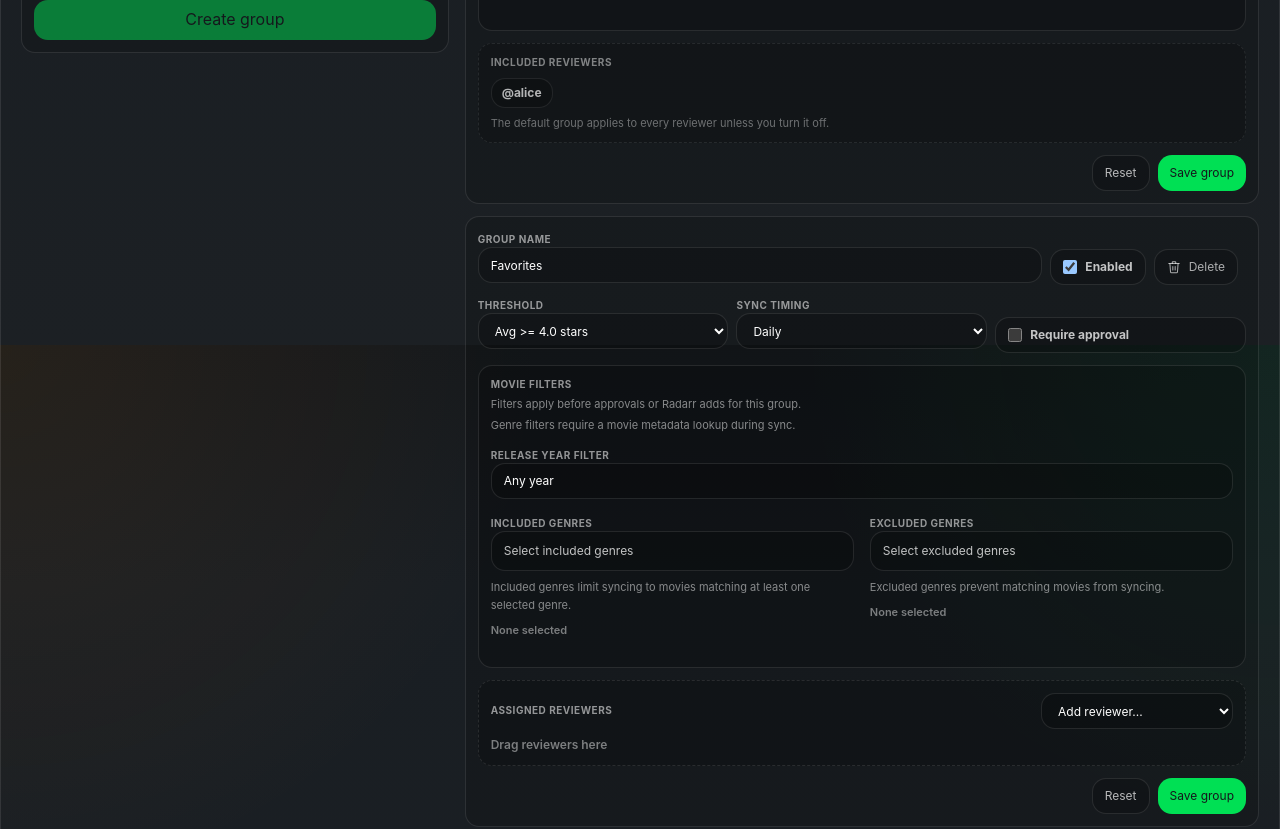
Test: SyncConfigurationPanel › shows validation errors for invalid year filters and does not save
This screenshot has width=1280, height=829.
(page scrolled)
Select "Year is between" in the dropdown labelled "Release year filter": (862, 481) [491,463,1233,499]
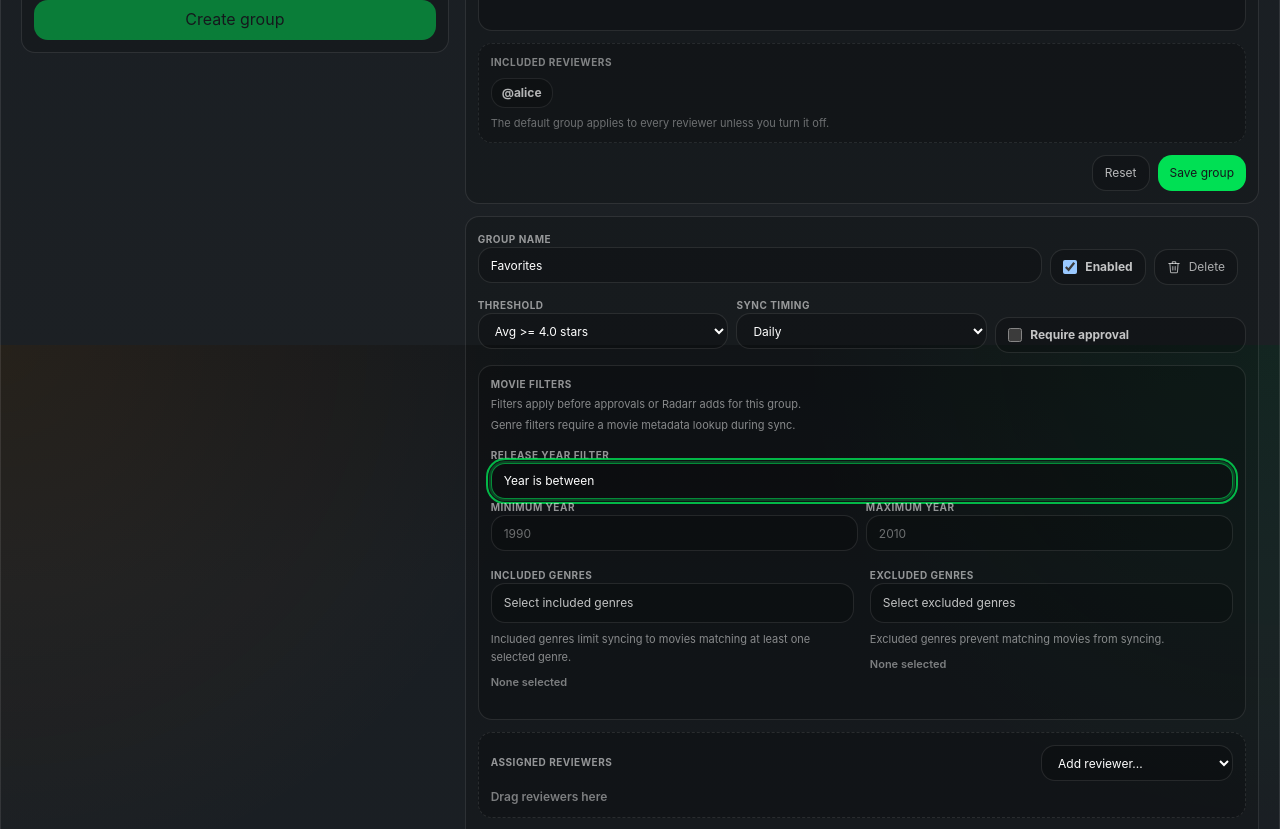
In the field labelled "Minimum year": (674, 533) [491,515,858,551], type "2026"
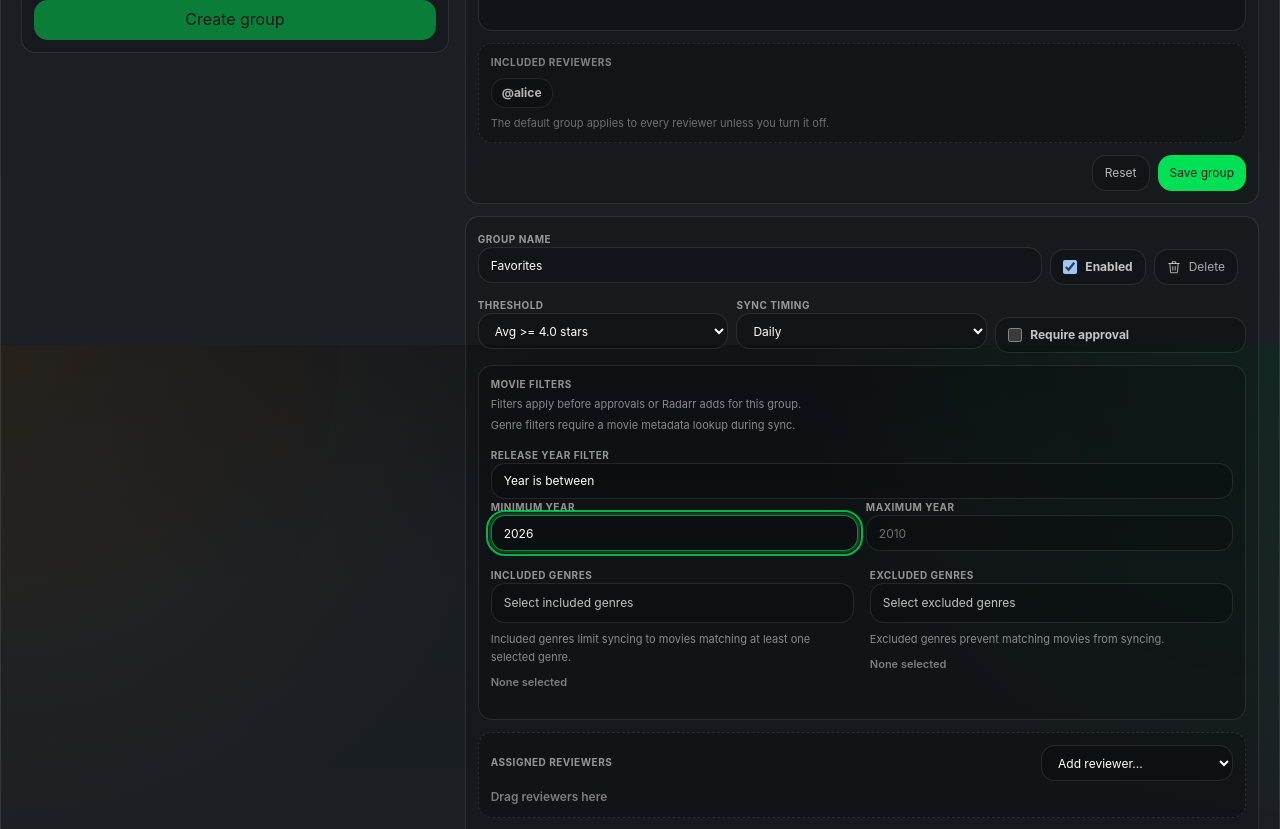
In the field labelled "Maximum year": (1049, 533) [866,515,1233,551], type "2020"
(page scrolled)
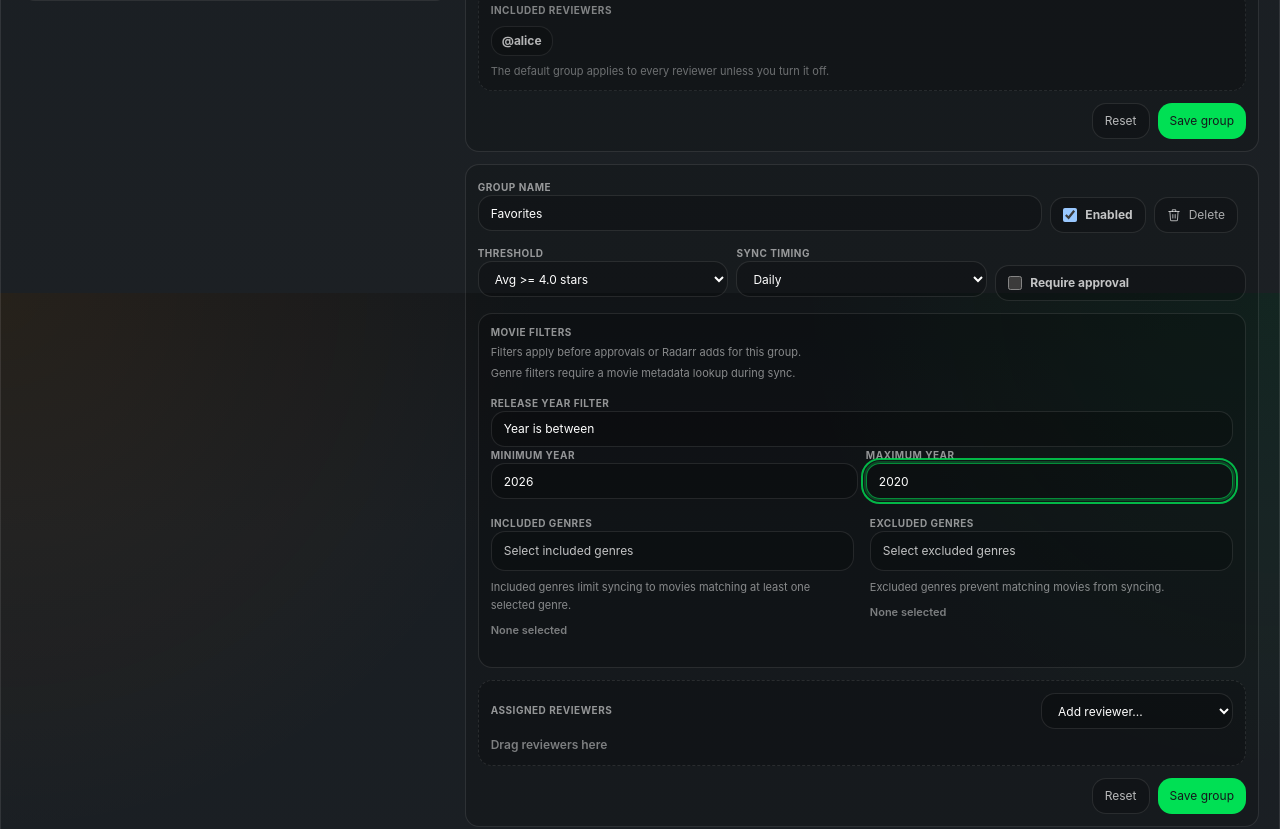
Click the button "Save group" below "Maximum year": click(1202, 796) [1158,778,1246,814]
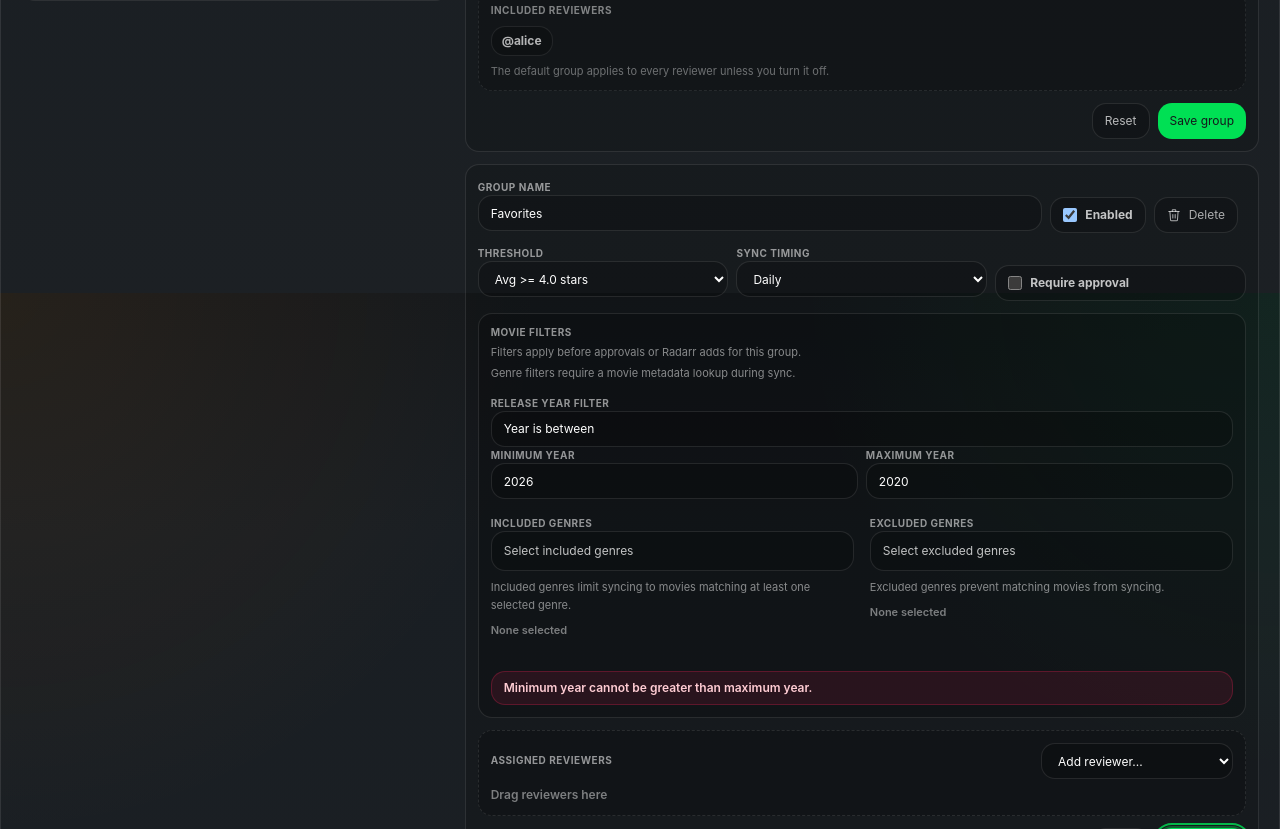
Check: the text "Minimum year cannot be greater than maximum year." is shown, box [491,671,1233,705]
